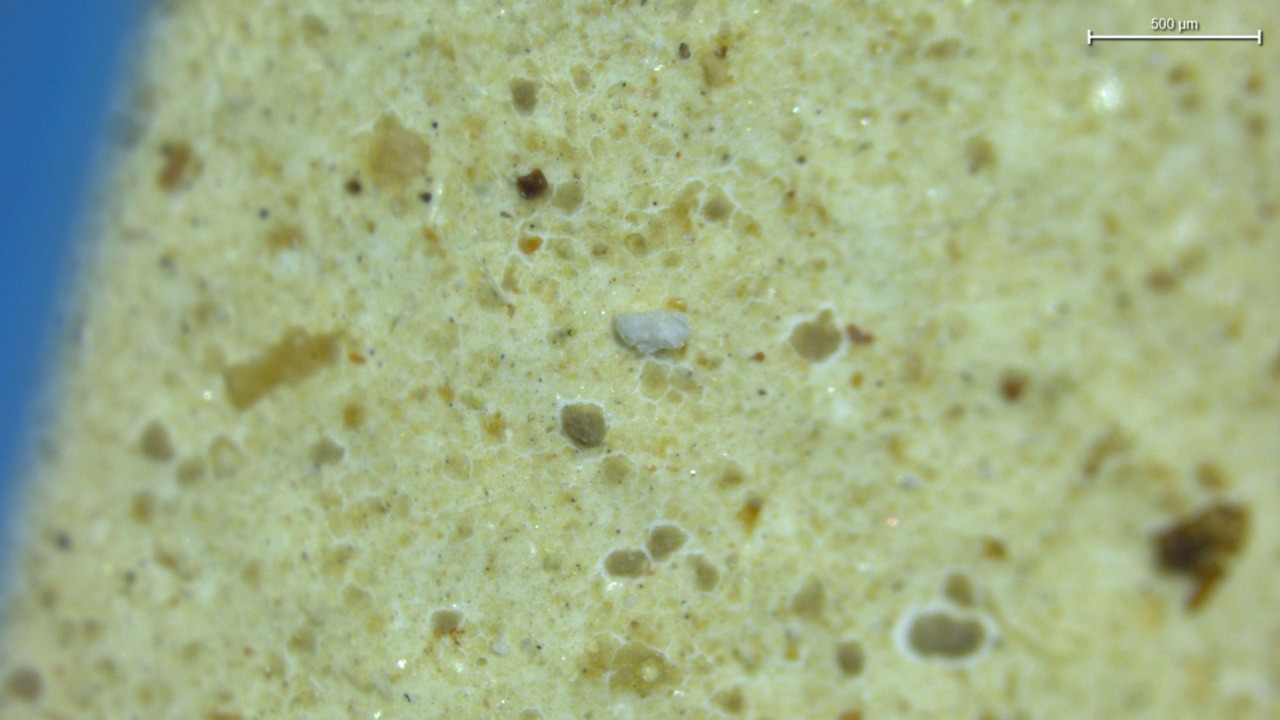microplastic_fragment: (613, 310, 691, 355)
